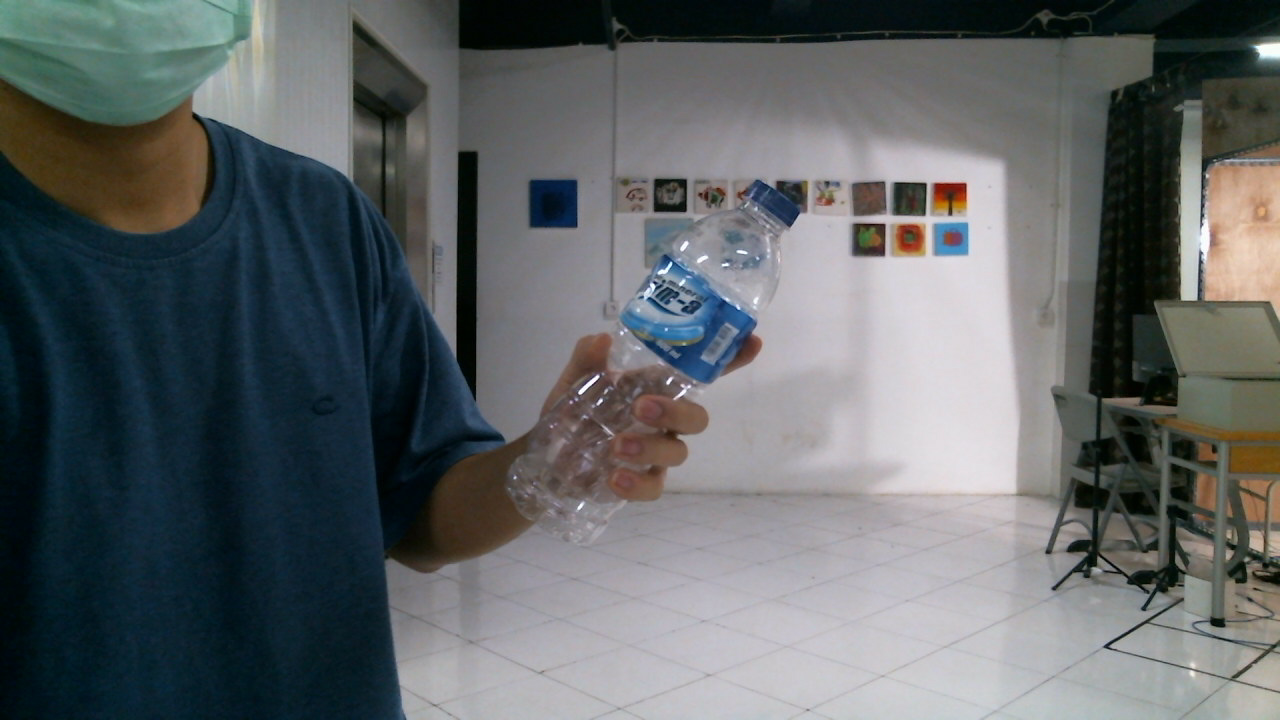Bottle: (496, 174, 798, 545)
